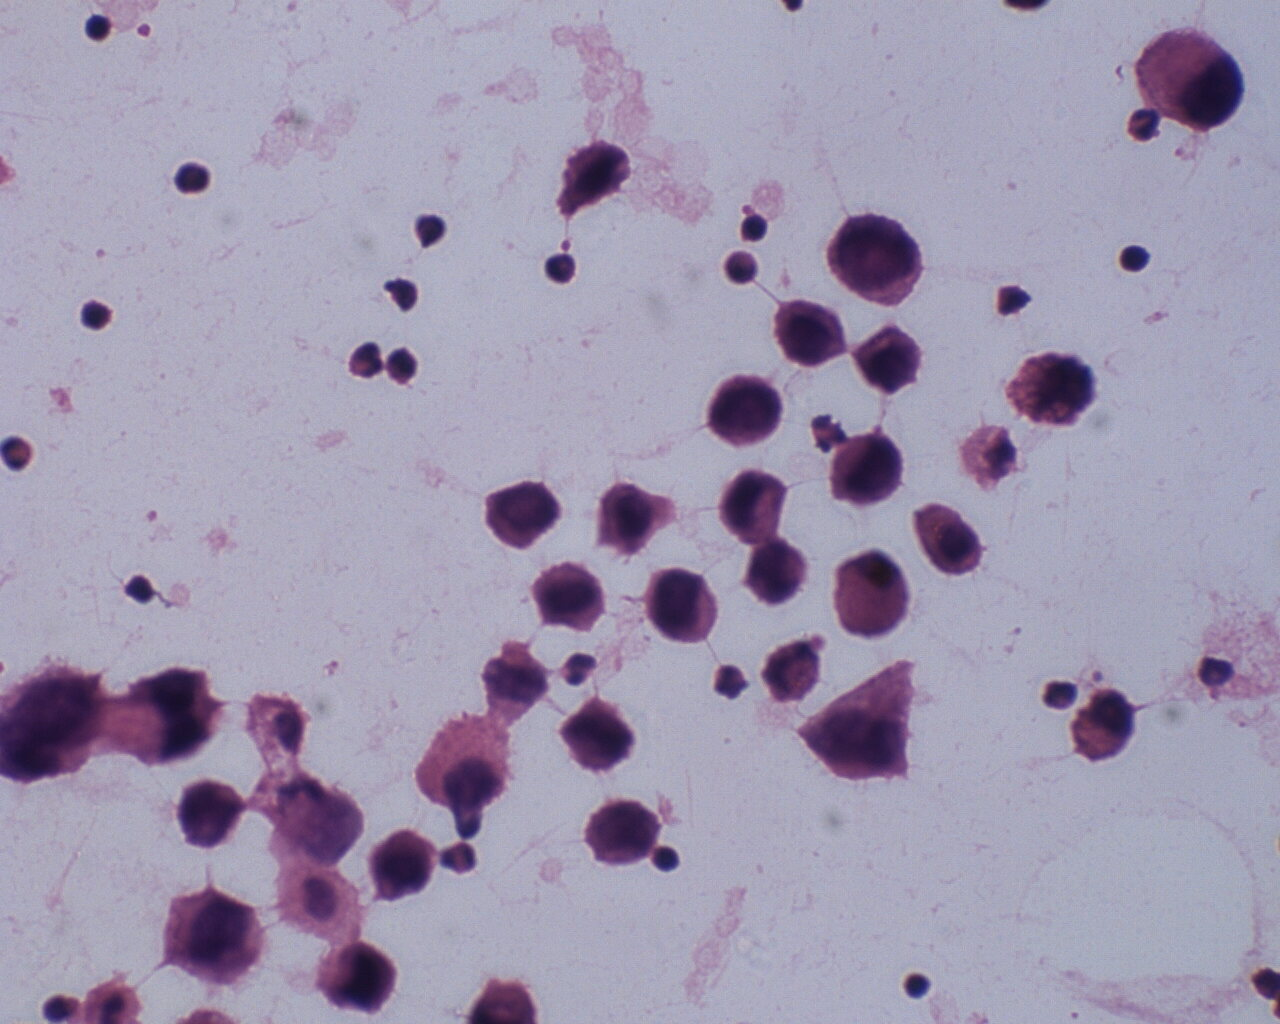ab: (158, 872, 271, 988), (824, 204, 930, 306), (998, 341, 1099, 437), (550, 130, 639, 220), (481, 476, 568, 558), (557, 692, 641, 776), (529, 556, 611, 637), (316, 939, 399, 1018), (646, 564, 723, 648), (717, 467, 795, 548), (703, 373, 787, 445), (830, 430, 907, 508), (856, 316, 927, 397), (773, 293, 844, 372), (583, 793, 662, 863), (369, 827, 439, 903), (176, 782, 252, 852), (745, 534, 811, 612)
histo: (827, 546, 908, 642)
lymph: (172, 162, 216, 201), (79, 9, 117, 49), (738, 206, 773, 245), (1118, 243, 1150, 274), (904, 970, 933, 1003)
neutro: (709, 656, 750, 701), (1126, 104, 1166, 149), (1193, 650, 1237, 689), (346, 341, 385, 383), (1, 430, 37, 474), (1043, 675, 1080, 712)
